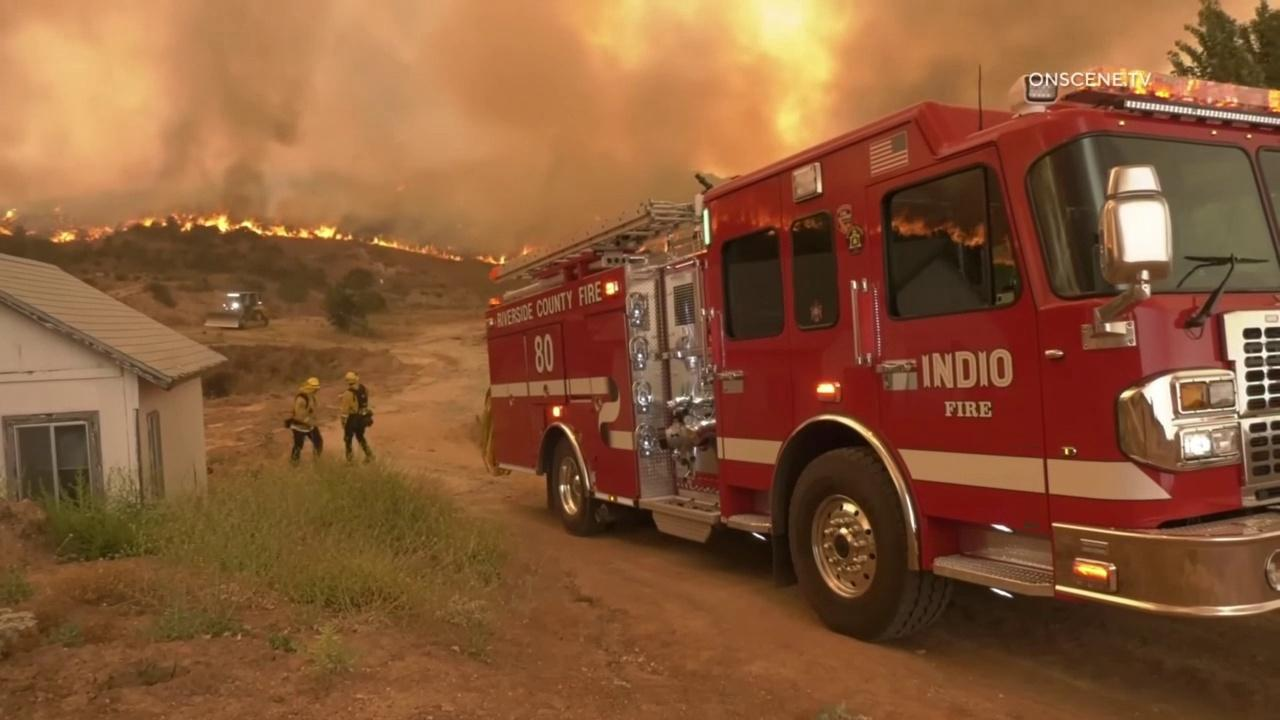fire: (170, 209, 353, 242), (367, 235, 463, 262), (121, 217, 167, 232), (48, 223, 79, 245), (84, 224, 114, 244), (477, 252, 506, 265), (0, 208, 17, 223), (0, 225, 14, 236), (522, 245, 531, 255)
smoke: (0, 0, 1203, 258)
